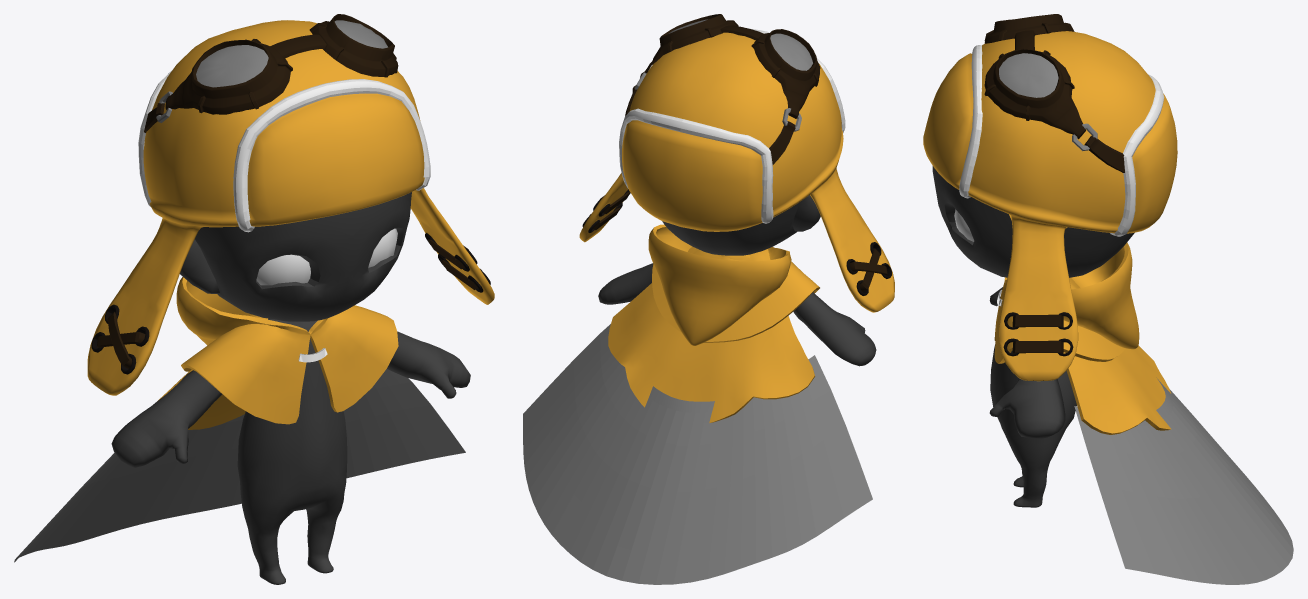
Rendered from C_PC_joy_cape_half.fbx.
The picture shows the model from 3 angles, left to right: view 1: azimuth 30°, elevation 25°; view 2: azimuth 150°, elevation 25°; view 3: azimuth 270°, elevation 25°; orthographic projection. The views are drawn at different scales.
Visible parts, largest first — view 1: helmet, body, cape_effect, cape; view 2: cape_effect, helmet, body, cape; view 3: helmet, cape_effect, body, cape.
Boxes of the visible parts, box(x1,y1,x2,y2) form: helmet: box(87, 14, 494, 395); body: box(111, 192, 470, 584); cape_effect: box(14, 369, 465, 562); cape: box(158, 369, 245, 429); cape_effect: box(523, 324, 872, 584); helmet: box(579, 14, 894, 312); body: box(598, 195, 876, 366); cape: box(608, 283, 815, 422); helmet: box(923, 14, 1177, 381); cape_effect: box(1074, 377, 1293, 584); body: box(932, 166, 1139, 507); cape: box(1063, 345, 1171, 434).
Size of the model in its own units: 4.38 by 5.59 by 3.64.
